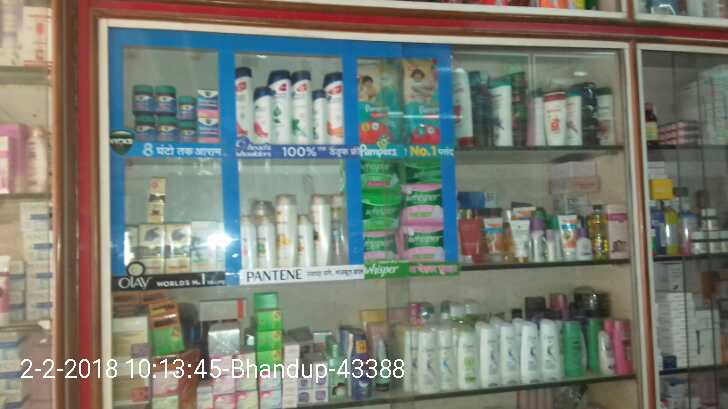vicks: (130, 83, 219, 143)
